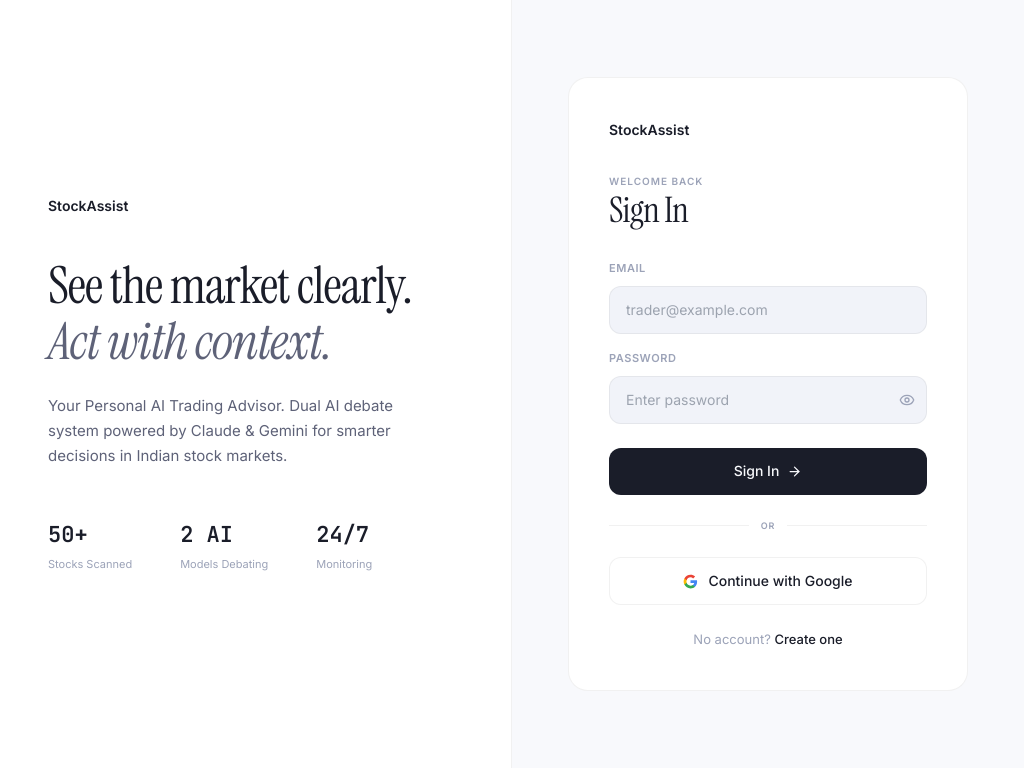
Test: submission › shows a pending state and disables the button while signing in
Type "trader@test.invalid" into the field with test id "login-email-input" at (768, 310), box left=609, top=286, right=927, bottom=334
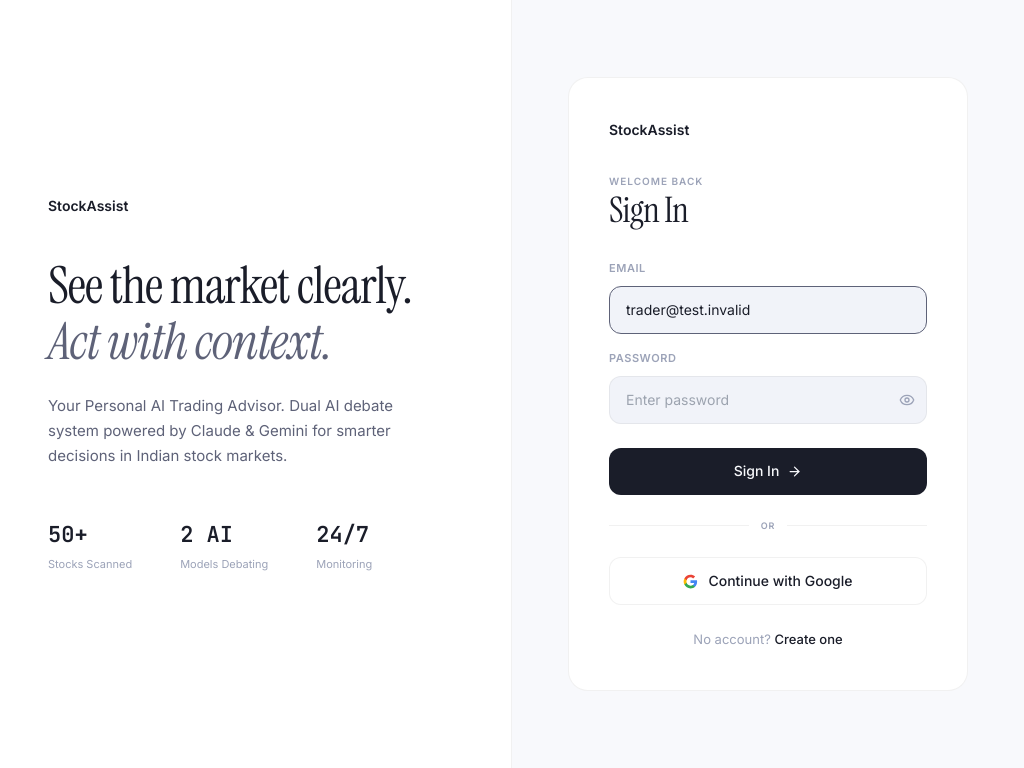
Type "correct-horse-battery" into the password field with test id "login-password-input" at (768, 400), box left=609, top=376, right=927, bottom=424
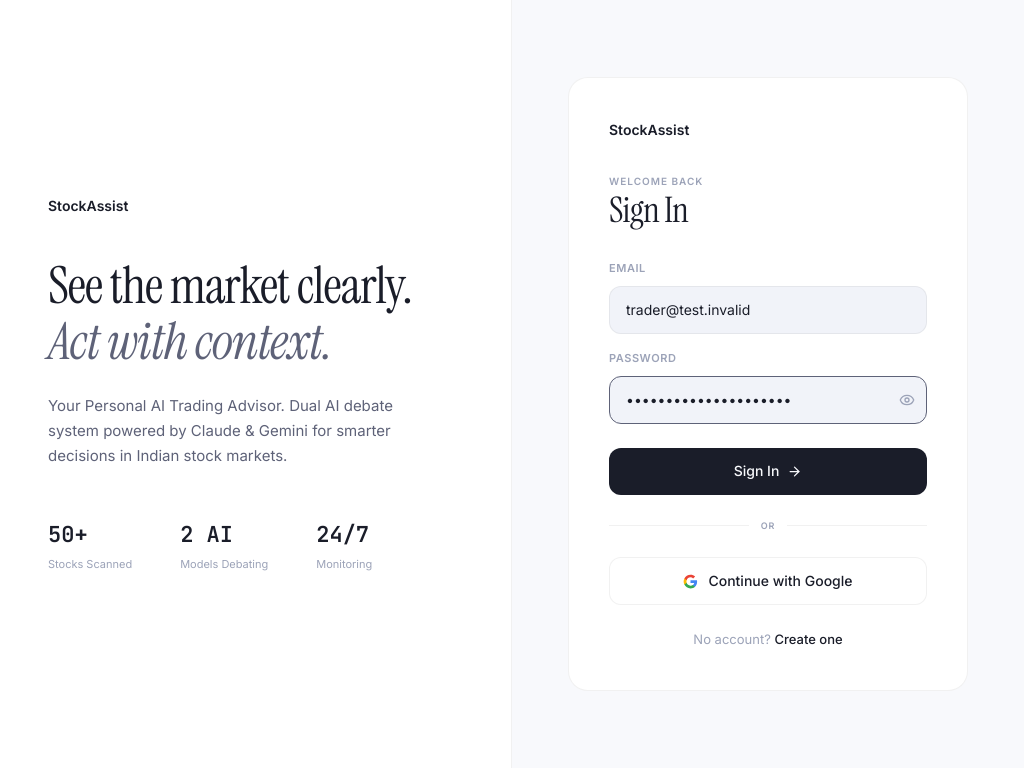
Click the button with test id "login-submit-btn" at (768, 472), box left=609, top=448, right=927, bottom=495
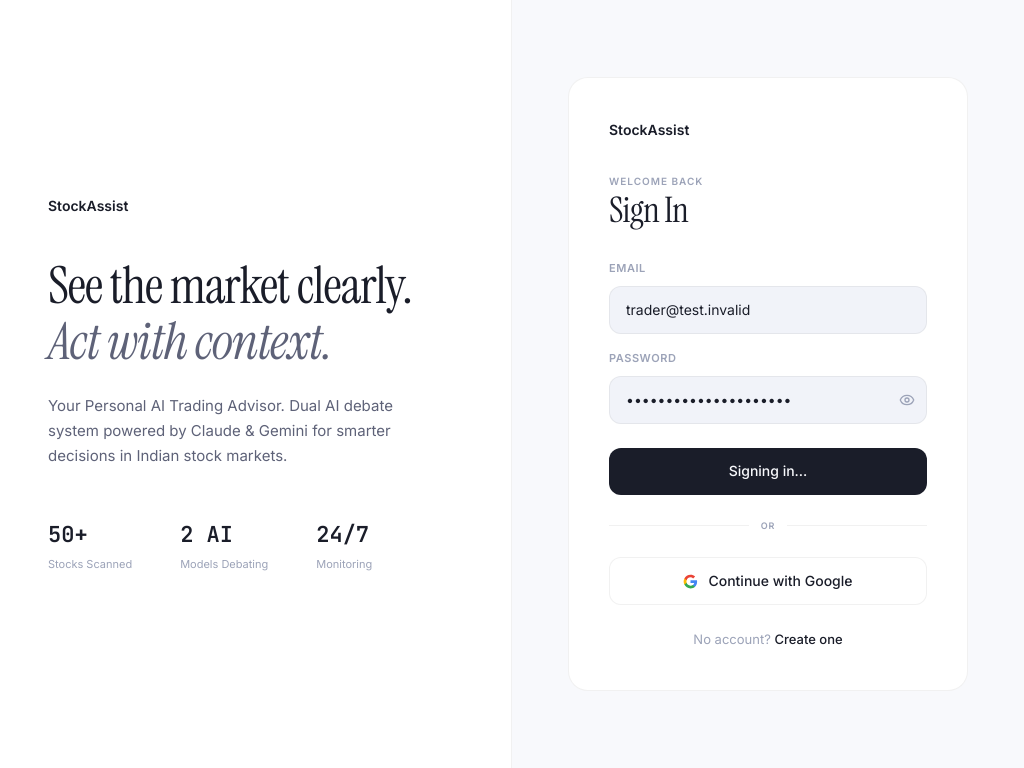
Result: the button with test id "login-submit-btn" is disabled at left=609, top=448, right=927, bottom=495
Result: the button with test id "login-submit-btn" shows "Signing in" at left=609, top=448, right=927, bottom=495
